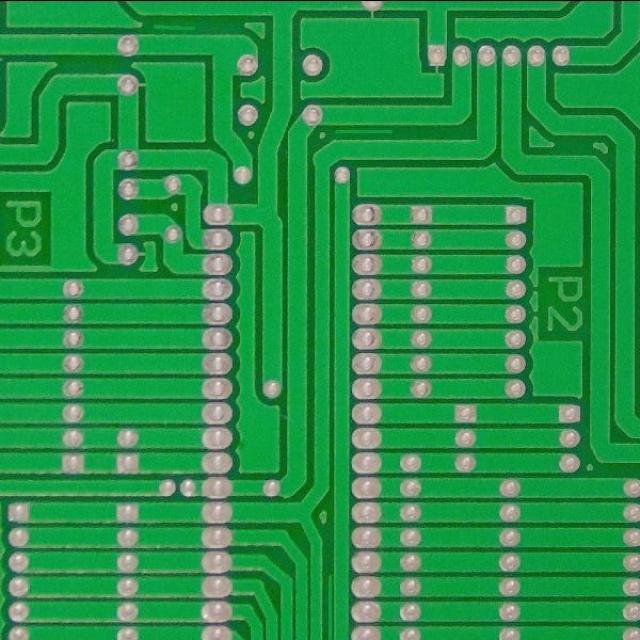Spurious_Cooper: (150, 20, 200, 34), (333, 125, 396, 136), (324, 568, 333, 640)
